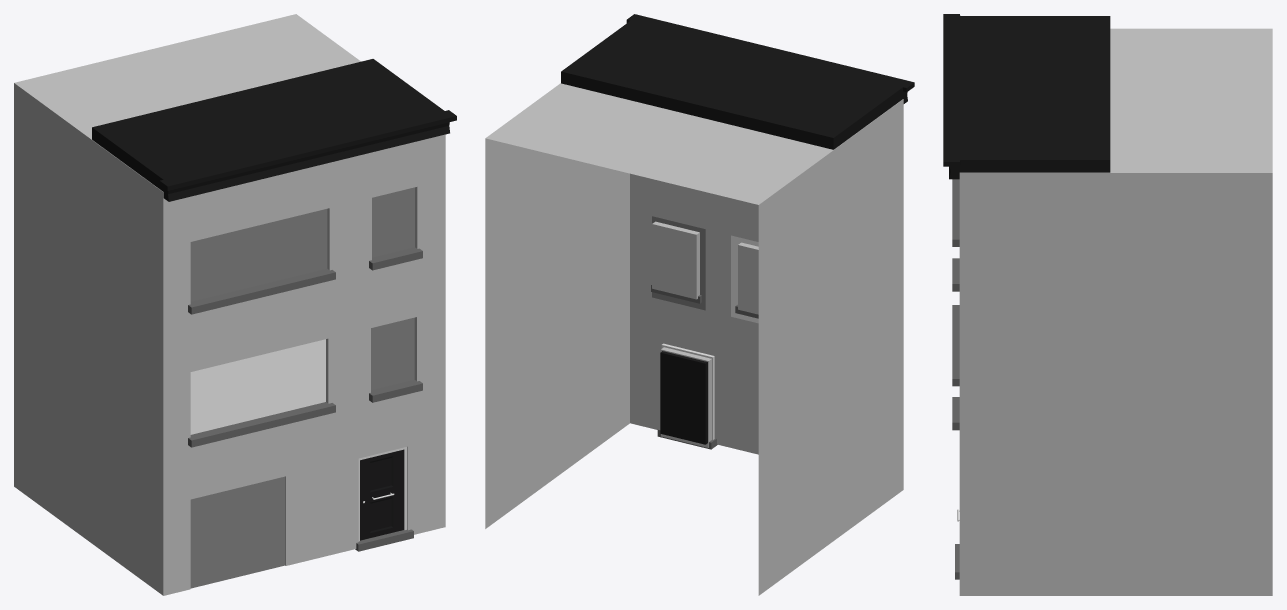
The model's file is houseV2.fbx.
3 views of the same model, side by side, from view 1: azimuth 30°, elevation 25°; view 2: azimuth 150°, elevation 25°; view 3: azimuth 270°, elevation 25° (orthographic). The views are drawn at different scales.
Visible parts, largest first — view 1: house, roof, largewindow1, garage, largewindow2, door, smallwindow1, smallwindow2, doorstep.003, doorstep.004, doorstep.002, doorstep.001 (+2 smaller); view 2: house, roof, door, smallwindow1, largewindow1; view 3: house, roof, doorstep.004, doorstep.003.
Part boxes in pixels (<box>): house: <box>14,14,445,595</box>; roof: <box>92,59,456,201</box>; largewindow1: <box>190,339,325,434</box>; garage: <box>190,476,285,588</box>; largewindow2: <box>190,209,327,301</box>; door: <box>360,449,403,540</box>; smallwindow1: <box>371,317,414,390</box>; smallwindow2: <box>372,187,414,257</box>; doorstep.003: <box>188,268,335,314</box>; doorstep.004: <box>188,402,335,447</box>; doorstep.002: <box>369,247,422,270</box>; doorstep.001: <box>369,379,422,402</box>; house: <box>485,83,903,595</box>; roof: <box>561,14,914,149</box>; door: <box>660,351,707,444</box>; smallwindow1: <box>652,216,705,310</box>; largewindow1: <box>731,235,758,323</box>; house: <box>959,28,1272,595</box>; roof: <box>943,14,1110,179</box>; doorstep.004: <box>952,305,959,386</box>; doorstep.003: <box>952,179,959,246</box>.
Bounding box in the file's own units: 229 × 315 × 215.
